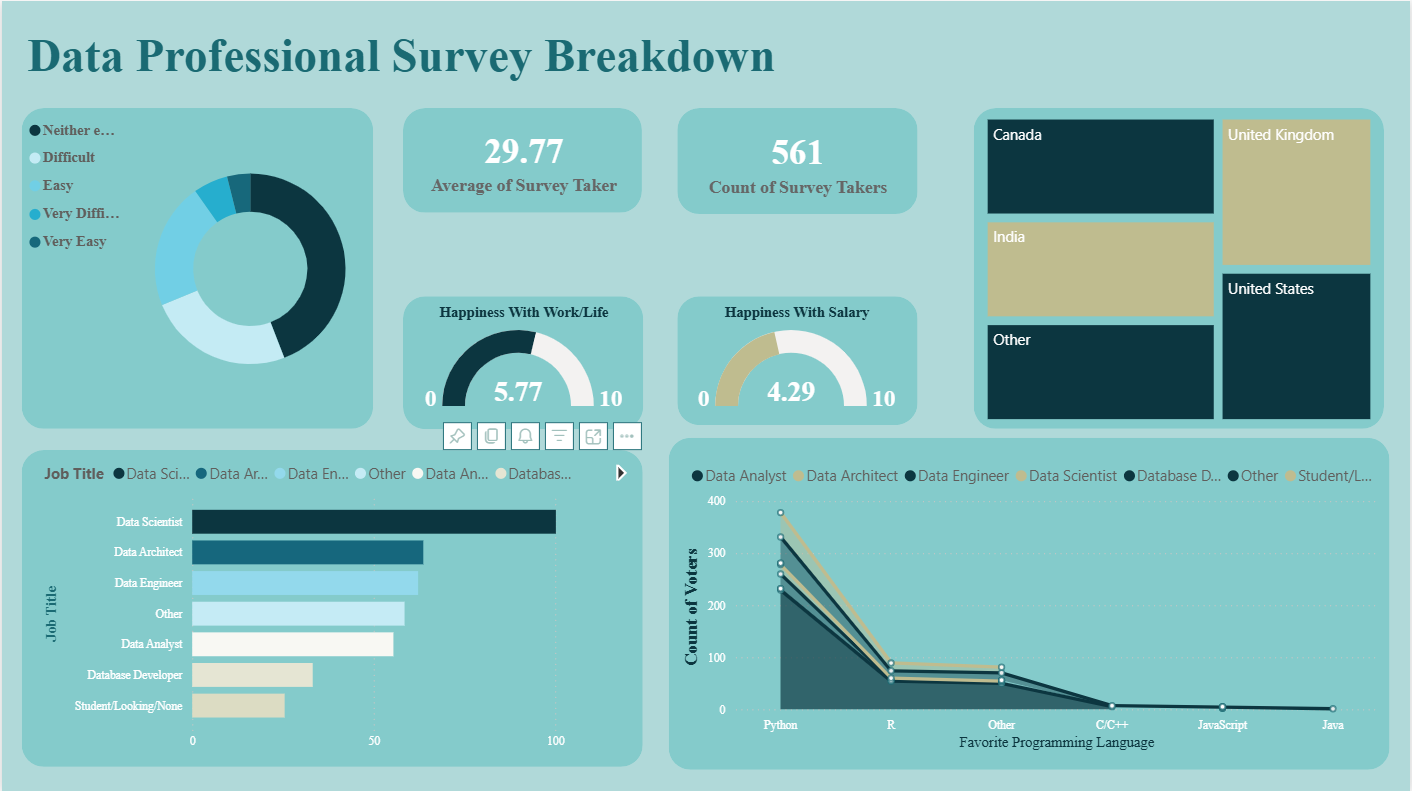

What the dashboard file says about the page in this screenshot:
{"tool":"powerbi","page":{"name":"Main Page","canvas":[1280,720],"ordinal":0},"visuals":[{"type":"textbox","box":[17.4,19.7,692.3,77.8],"z":0},{"type":"shape","box":[17.4,407.7,564.5,288.1],"z":1000},{"type":"shape","box":[17.4,97.6,319.4,291.6],"z":2000},{"type":"shape","box":[606.4,397.3,655.1,302],"z":3000},{"type":"shape","box":[613.3,97.6,218.4,96.4],"z":4000},{"type":"shape","box":[613.3,268.3,218.4,117.3],"z":5000},{"type":"shape","box":[364.7,268.3,218.4,120.8],"z":6000},{"type":"card","fields":{"Values":["Count(Data Professional Survey.Unique ID)"]},"box":[614.5,97.6,217.2,96.4],"z":7000},{"type":"barChart","title":"Average Salary By Job Title ","fields":{"Category":["Data Professional Survey.Q1 - Which Title Best Fits your Current Role?.1"],"Y":["Avg(Data Professional Survey.Average Salary)"],"Series":["Data Professional Survey.Q1 - Which Title Best Fits your Current Role?.1"]},"box":[33.7,408.9,548.3,279.9],"z":8000},{"type":"gauge","title":"Happiness With Work/Life","fields":{"Y":["Avg(Data Professional Survey.Q6 - How Happy are you in your Current Position with the following? (Work/Life Balance))"],"MinValue":["Min(Data Professional Survey.Q6 - How Happy are you in your Current Position with the following? (Work/Life Balance))1"],"MaxValue":["Max(Data Professional Survey.Q6 - How Happy are you in your Current Position with the following? (Work/Life Balance))2"]},"box":[374,275.3,199.8,106.9],"z":9000},{"type":"gauge","title":"Happiness With Salary ","fields":{"Y":["Avg(Data Professional Survey.Q6 - How Happy are you in your Current Position with the following? (Salary))"],"MinValue":["Min(Data Professional Survey.Q6 - How Happy are you in your Current Position with the following? (Salary))"],"MaxValue":["Max(Data Professional Survey.Q6 - How Happy are you in your Current Position with the following? (Salary))1"]},"box":[622.6,275.3,199.8,106.9],"z":10000},{"type":"donutChart","fields":{"Category":["Data Professional Survey.Q7 - How difficult was it for you to break into Data?"],"Y":["CountNonNull(Data Professional Survey.Q7 - How difficult was it for you to break into Data?)"]},"box":[18.6,99.9,319.4,288.1],"z":11000},{"type":"stackedAreaChart","title":"Favorite Programming Language ","fields":{"Category":["Data Professional Survey.Q5 - Favorite Programming Language.1"],"Y":["Count(Data Professional Survey.Unique ID)"],"Series":["Data Professional Survey.Q1 - Which Title Best Fits your Current Role?.1"]},"box":[613.3,411.2,641.2,275.3],"z":12000},{"type":"shape","box":[882.8,97.6,372.9,291.6],"z":13000},{"type":"treemap","title":"Country of Survey Taker","fields":{"Group":["Data Professional Survey.Q11 - Which Country do you live in?.1"],"Values":["Count(Data Professional Survey.Q11 - Which Country do you live in?.1)"]},"box":[891,103.4,357.8,282.3],"z":14000},{"type":"shape","box":[364.7,97.6,217.2,95.3],"z":15000},{"type":"card","fields":{"Values":["Avg(Data Professional Survey.Q10 - Current Age)"]},"box":[374,103.4,199.8,82.5],"z":16000}]}

Visuals, with their boxes in screenshot pixels (x1, y1, x2, y2), scaled from the page's 1280x720 canvas onto the 1412x791 screenshot:
textbox: (19,22,783,107)
shape: (19,448,642,764)
shape: (19,107,372,428)
shape: (669,436,1392,768)
shape: (677,107,917,213)
shape: (677,295,917,424)
shape: (402,295,643,427)
card - Count(Data Professional Survey.Unique ID): (678,107,917,213)
"Average Salary By Job Title " barChart: (37,449,642,757)
"Happiness With Work/Life" gauge: (413,302,633,420)
"Happiness With Salary " gauge: (687,302,907,420)
donutChart - Data Professional Survey.Q7 - How difficult was it for you to break into Data? x CountNonNull(Data Professional Survey.Q7 - How difficult was it for you to break into Data?): (21,110,373,426)
"Favorite Programming Language " stackedAreaChart: (677,452,1384,754)
shape: (974,107,1385,428)
"Country of Survey Taker" treemap: (983,114,1378,424)
shape: (402,107,642,212)
card - Avg(Data Professional Survey.Q10 - Current Age): (413,114,633,204)
